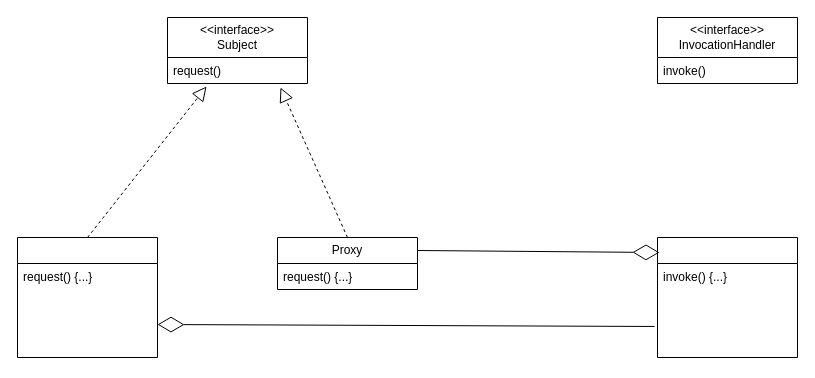
Some shapes in this 815 by 378 pixel diagram are drawn without their labels. The box of each missing label's shape, as (x1, y1, x2, y2) in pixels:
InvocationHandler: (656, 236, 798, 358)
RealSubject: (16, 236, 158, 358)
